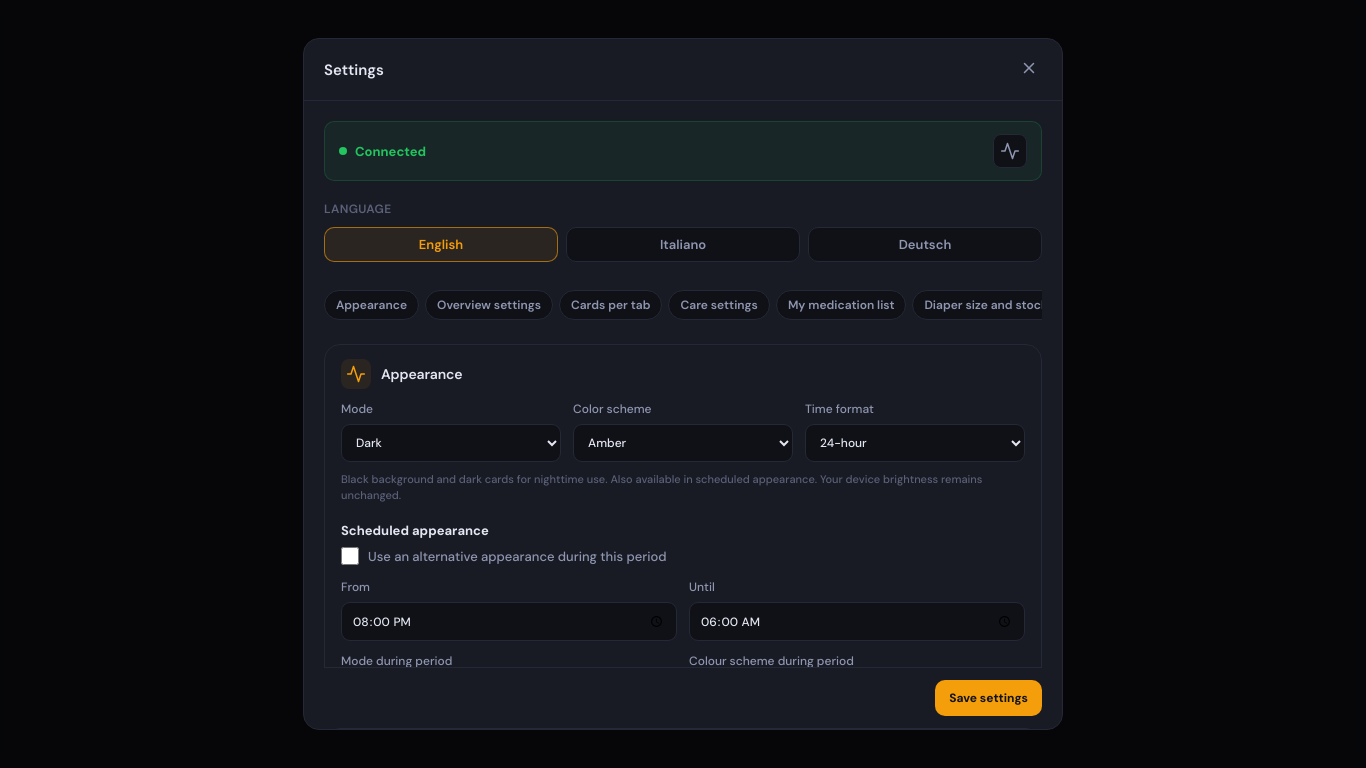
Test: SettingsModal language selector › re-renders its own text in the newly selected language
Click the button "Italiano": (683, 245) [566,227,800,262]
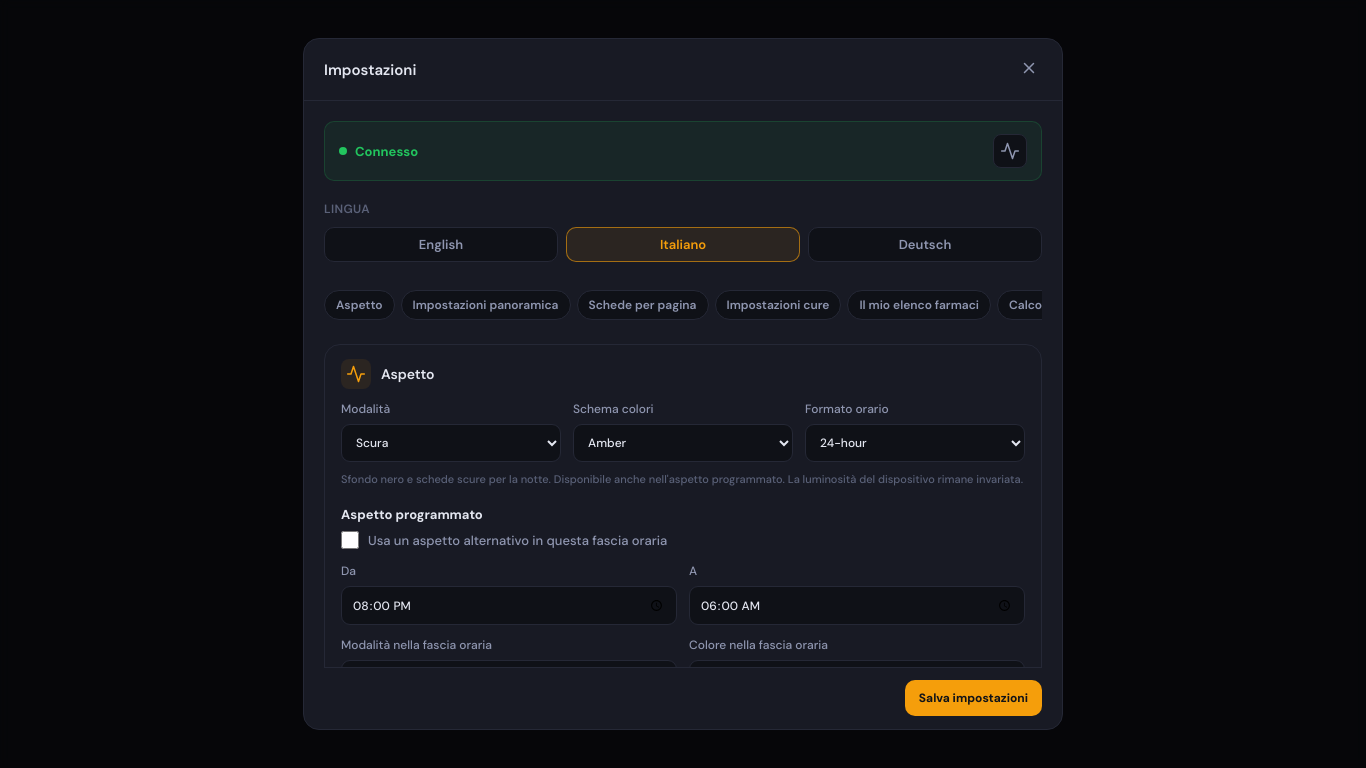
Expected: the text "Connesso" is shown, [355,143,418,160]
